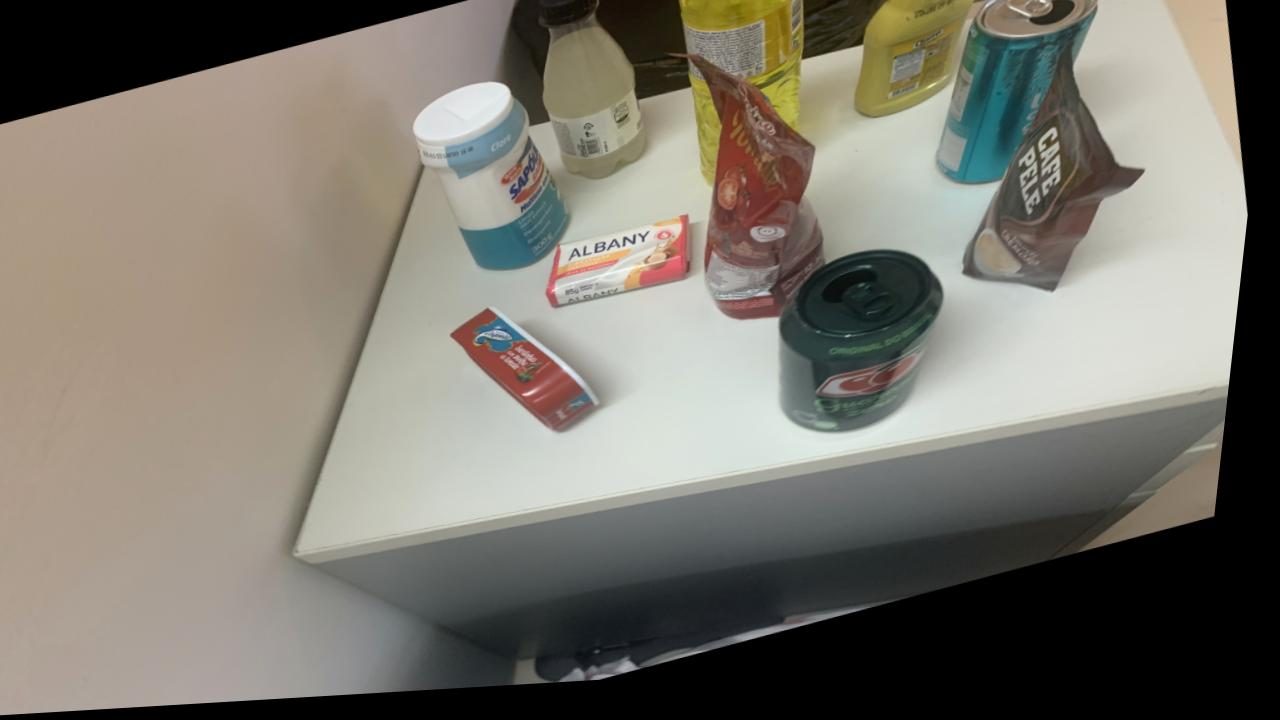Cleaner-Cleanup_Items: (416, 88, 575, 277)
Coffee-Pantry_Items: (970, 64, 1148, 304)
Detergent-Cleanup_Items: (680, 0, 806, 138), (692, 76, 725, 191)
Guarana_Can-Drinks: (787, 261, 951, 443)
Mustard-Pantry_Items: (858, 0, 975, 128)
Soap-Cleanup_Items: (553, 223, 697, 314)
Soda-Drinks: (539, 0, 650, 186)
Tea-Drinks: (940, 0, 1100, 196)
Tomato_Sauce-Pantry_Items: (691, 65, 833, 330)
Tuna_Can-Pantry_Items: (458, 313, 609, 437)
